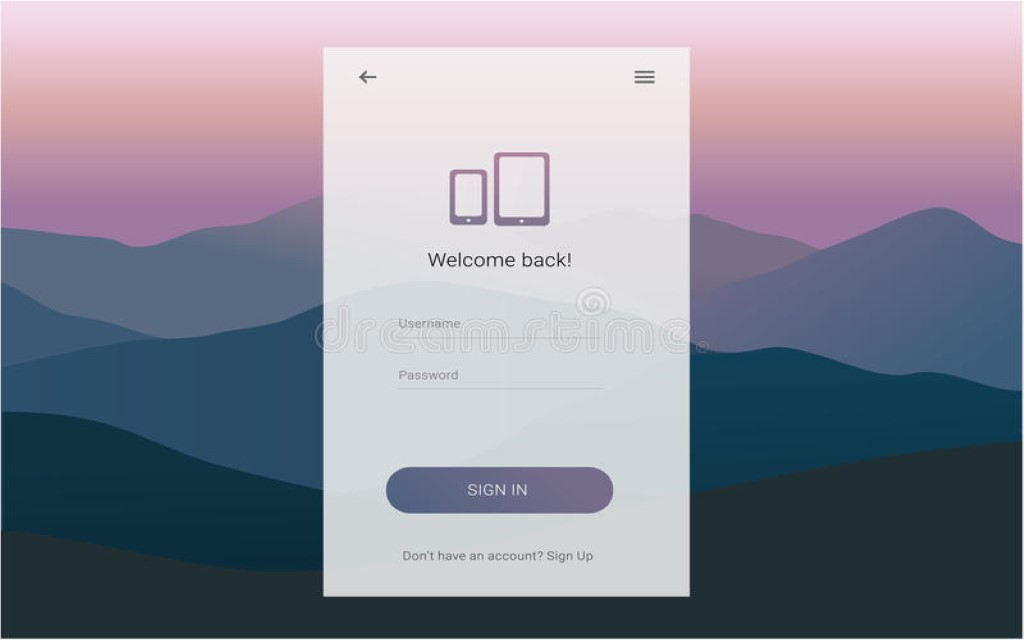button: (387, 467, 614, 513)
label_SignIn: (463, 478, 529, 504)
label_Username: (399, 314, 465, 332)
label_password: (396, 365, 465, 383)
textbox: (397, 305, 604, 339), (396, 355, 600, 387)
